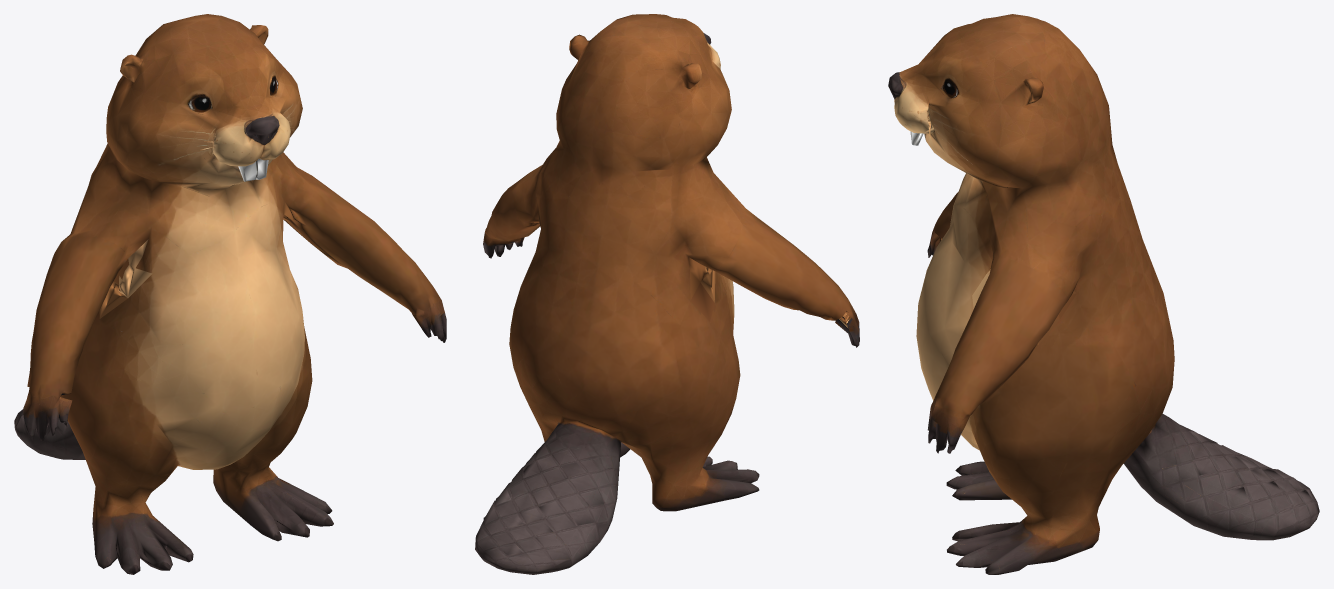
File: beaver-arms-crease.glb
3 renders of one model, left to right at view 1: azimuth 30°, elevation 25°; view 2: azimuth 150°, elevation 25°; view 3: azimuth 270°, elevation 25°, orthographic. The views are drawn at different scales.
Visible parts, largest first — view 1: bvsrc_mesh0; view 2: bvsrc_mesh0; view 3: bvsrc_mesh0.
Part boxes in pixels (x1,y1,x2,y2): bvsrc_mesh0: (14,14,446,574); bvsrc_mesh0: (475,14,859,574); bvsrc_mesh0: (888,14,1319,574).
Bounding box in the file's own units: 1.65 × 1.9 × 1.5.
Materials: 1 (1 with a texture image).
